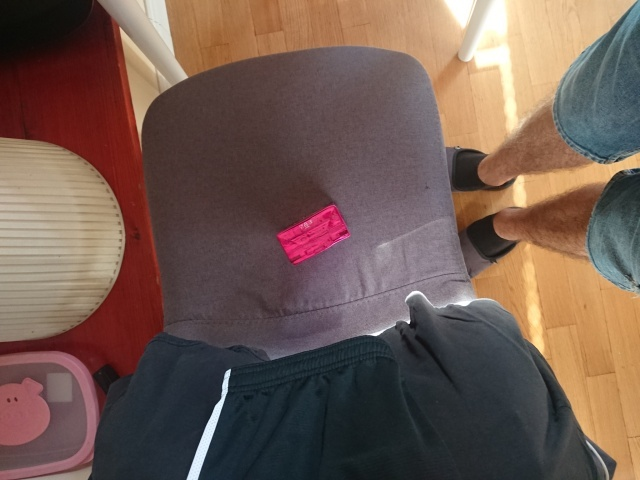Barcaffe Classic Original 225g: (275, 203, 352, 267)
